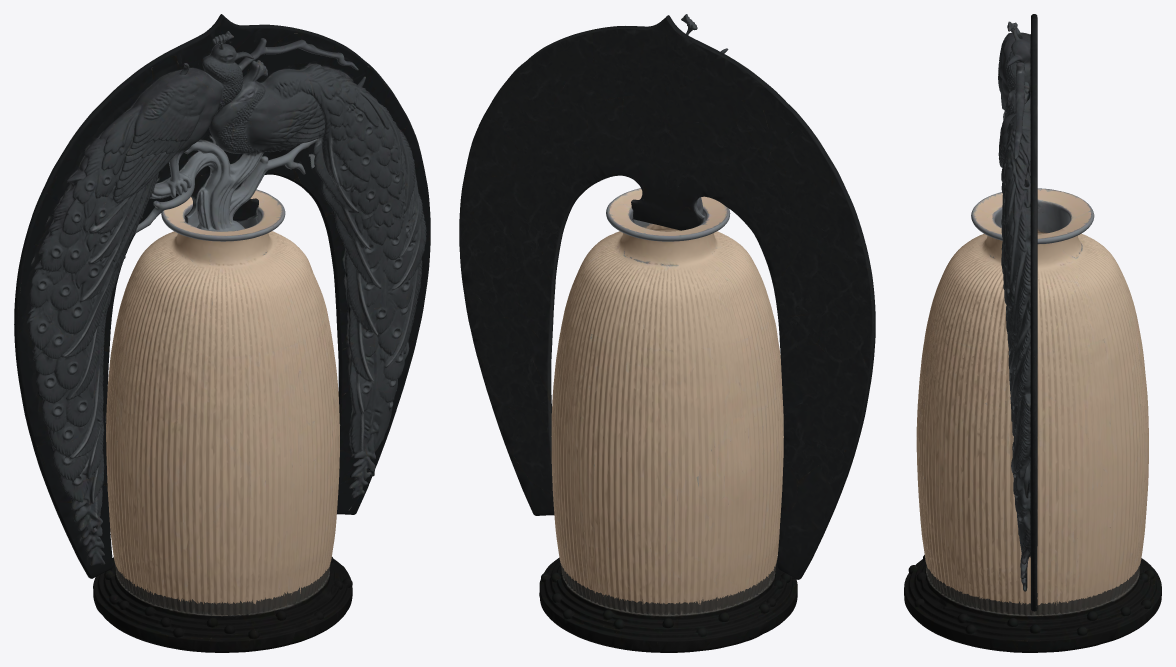
File: peacock-lantern-desktop.glb
3 views of the same model, side by side, from view 1: azimuth 30°, elevation 25°; view 2: azimuth 150°, elevation 25°; view 3: azimuth 270°, elevation 25° (orthographic).
Parts seen in each view (by area): view 1: Peacock Perfume Object - Restored; view 2: Peacock Perfume Object - Restored; view 3: Peacock Perfume Object - Restored.
Part boxes in pixels (left/top/right/bottom): Peacock Perfume Object - Restored: left=14, top=14, right=430, bottom=652; Peacock Perfume Object - Restored: left=459, top=14, right=875, bottom=652; Peacock Perfume Object - Restored: left=904, top=14, right=1161, bottom=652.
Size of the model in its own units: 1.41 by 1.9 by 0.7644.
4 materials, 3 textured.
